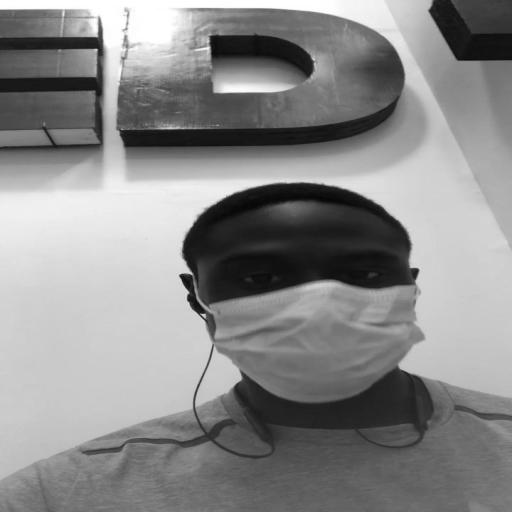mask: (191, 223, 424, 403)
